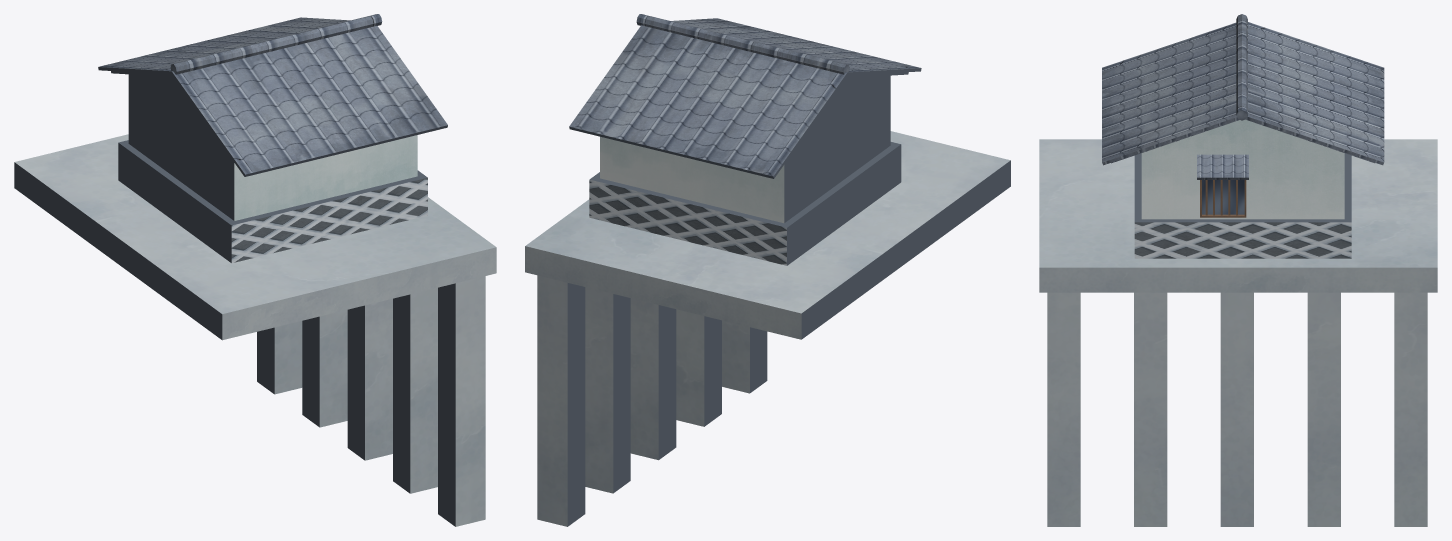
File: house_2.fbx
3 views of the same model, side by side, from view 1: azimuth 30°, elevation 25°; view 2: azimuth 150°, elevation 25°; view 3: azimuth 270°, elevation 25° (orthographic). The views are drawn at different scales.
Parts seen in each view (by area): view 1: house_2; view 2: house_2; view 3: house_2.
Part boxes in pixels (x1,y1,x2,y2): house_2: [14, 14, 496, 526]; house_2: [525, 14, 1010, 526]; house_2: [1039, 14, 1437, 526].
Size of the model in its own units: 144 by 217 by 189.
